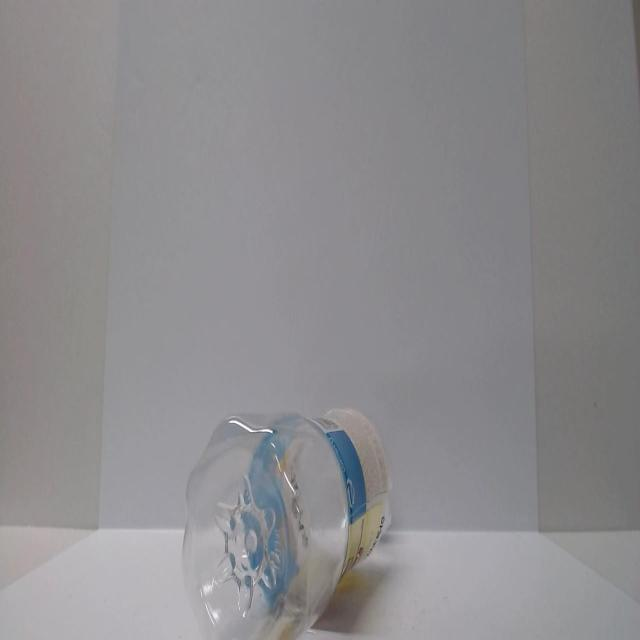bottle: (175, 362, 412, 640)
